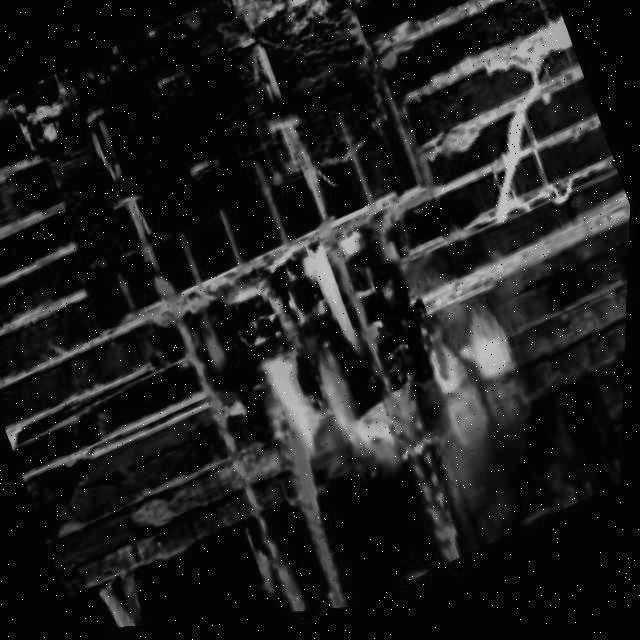Smoke: (221, 224, 423, 492)
